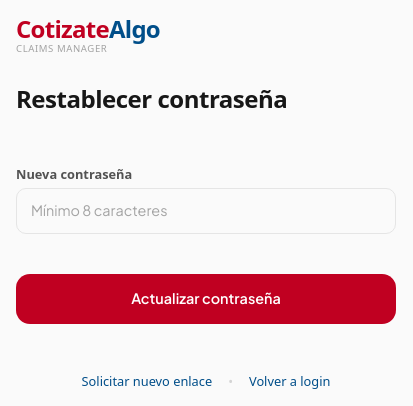
Test: ResetPasswordForm › submits valid payload and renders success state
Type "BrandNewPass123!" into the password field labelled "Nueva contraseña".
click(206, 211); type("BrandNewPass123!")  # box [16,188,396,234]
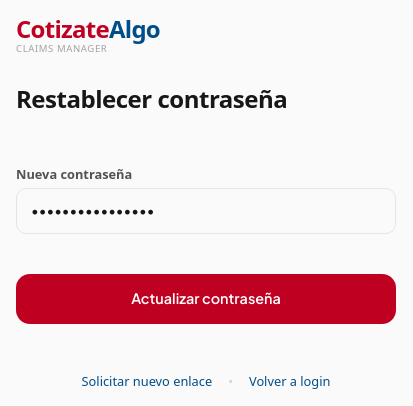
Click the button "Actualizar contraseña".
click(206, 299)  # box [16,274,396,324]
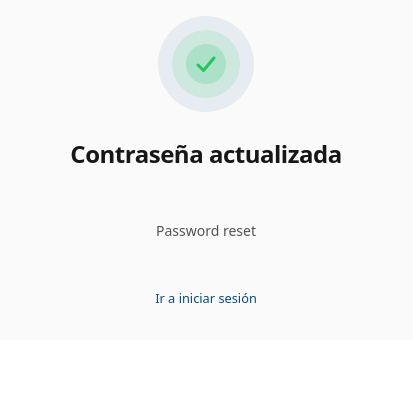
Expected: the heading "Contraseña actualizada" is shown, [70,136,342,172]
Expected: the text "Password reset" is shown, [156,220,256,241]
